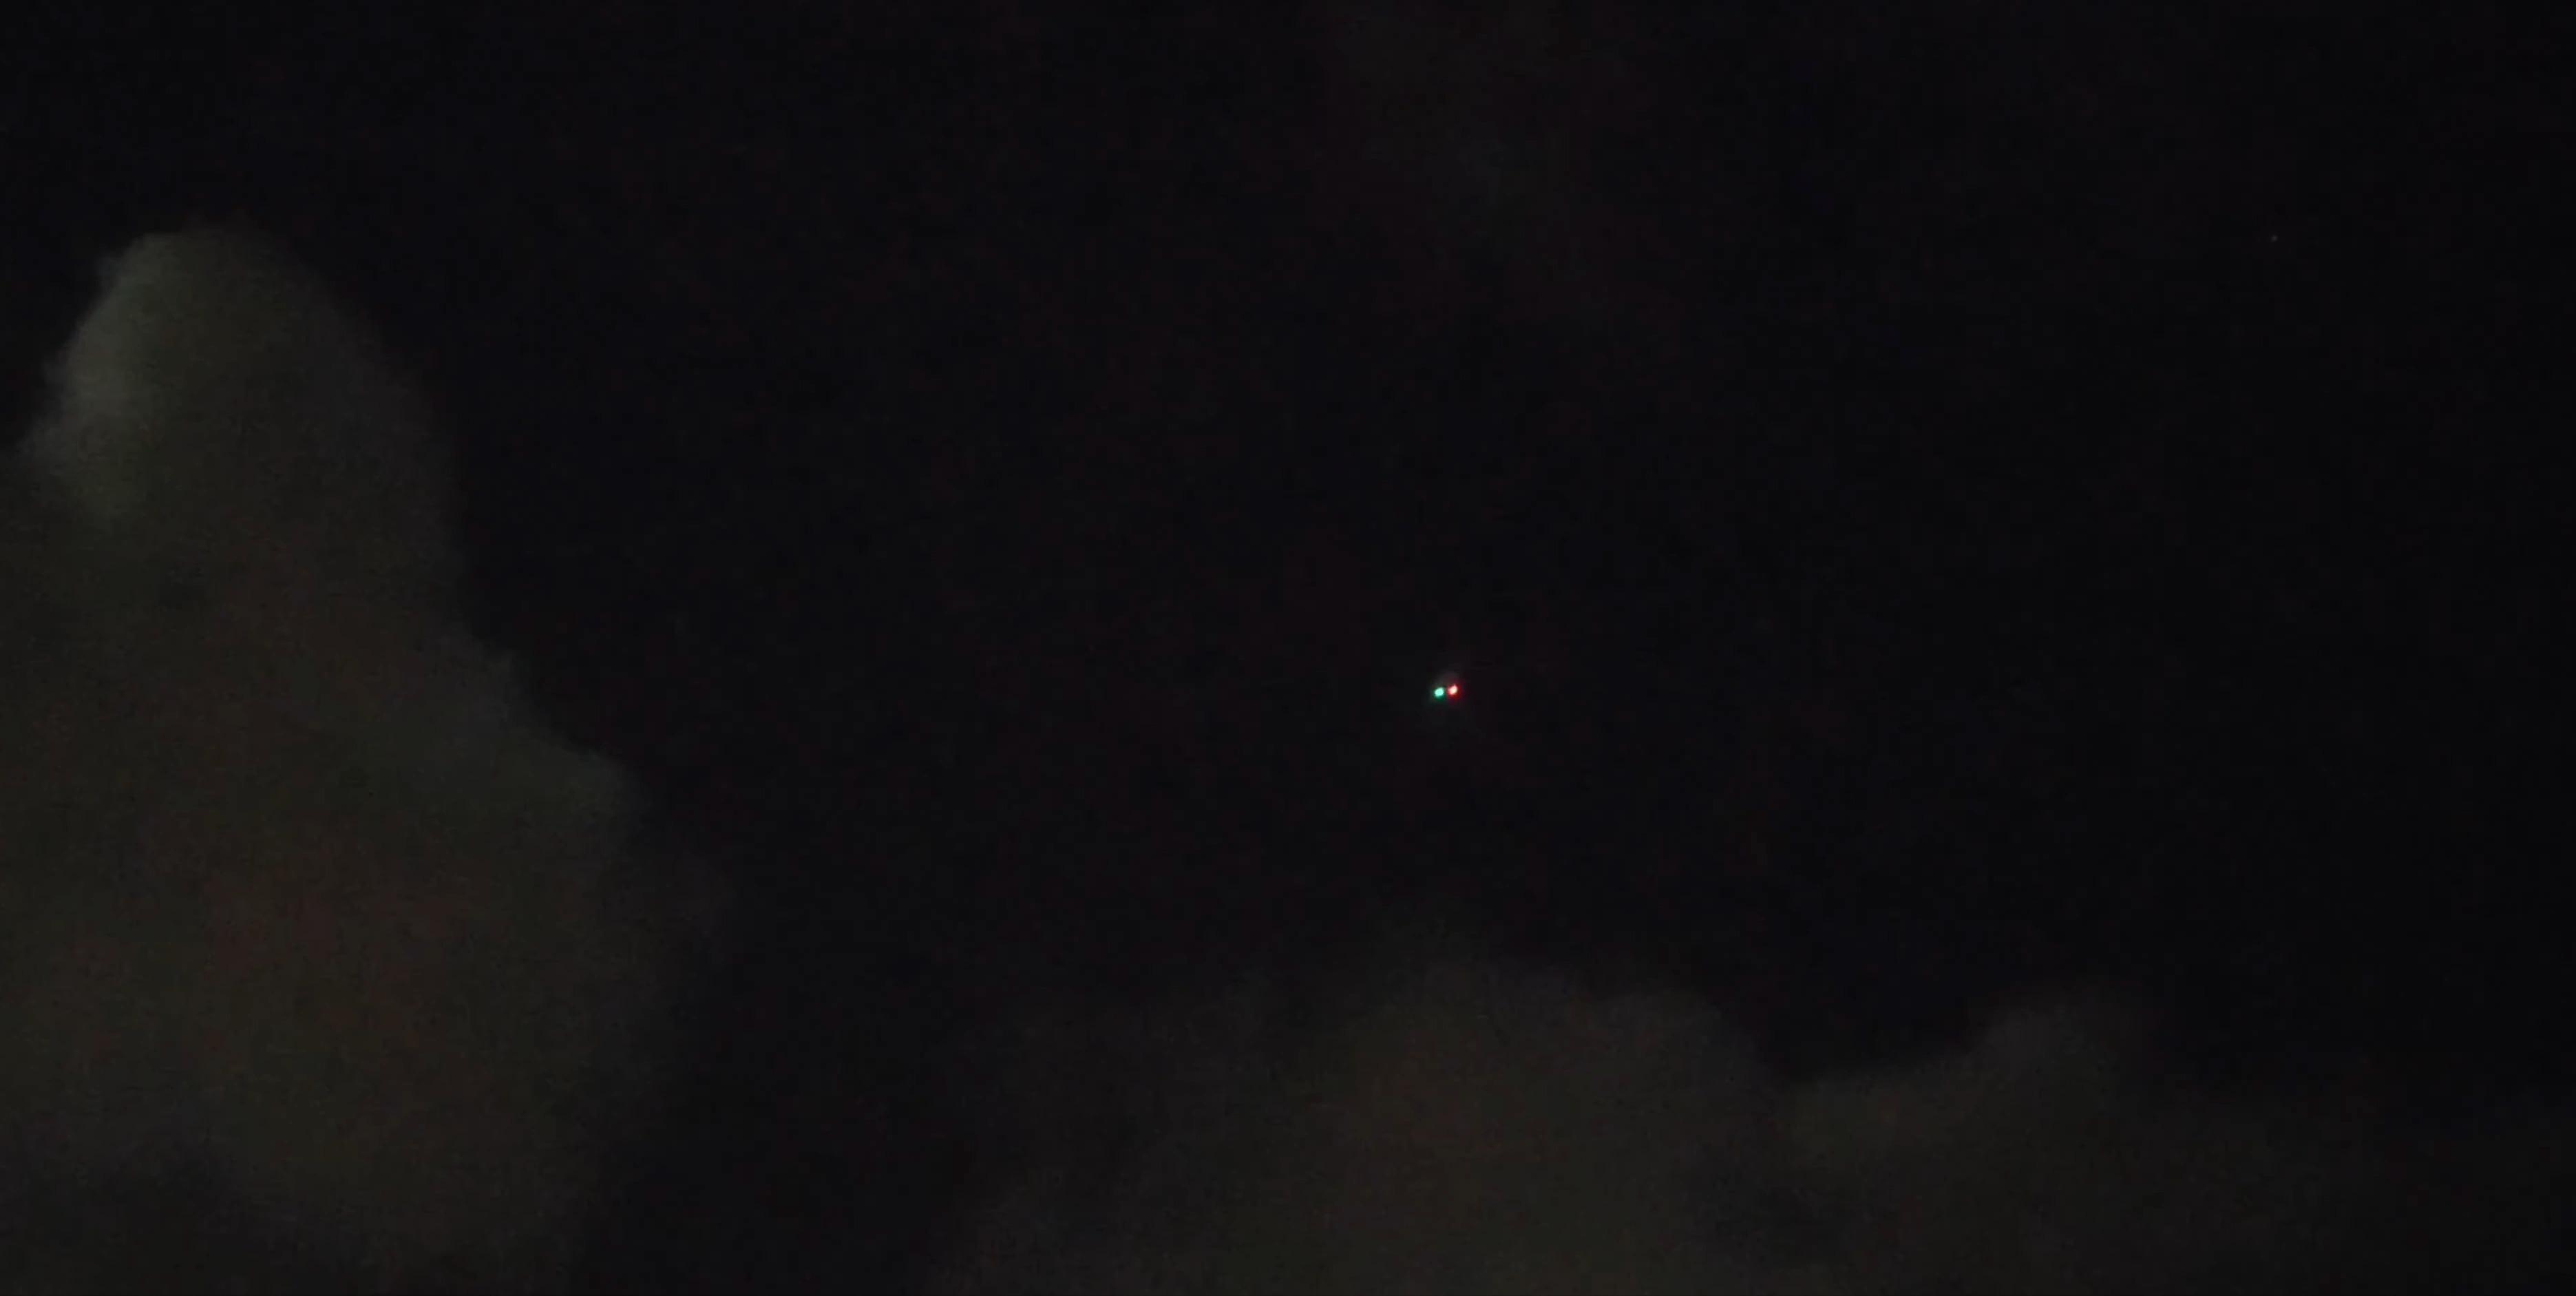Plane: (1381, 648, 1519, 726)
